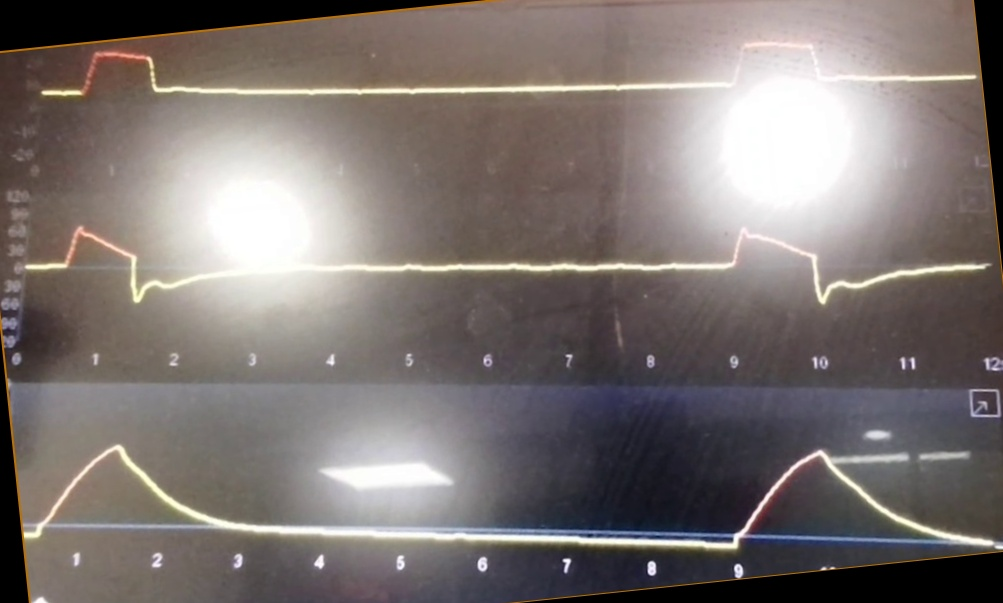Premature_cycling Flow: (33, 201, 991, 332)
Premature_cycling Volume: (33, 425, 981, 556)
